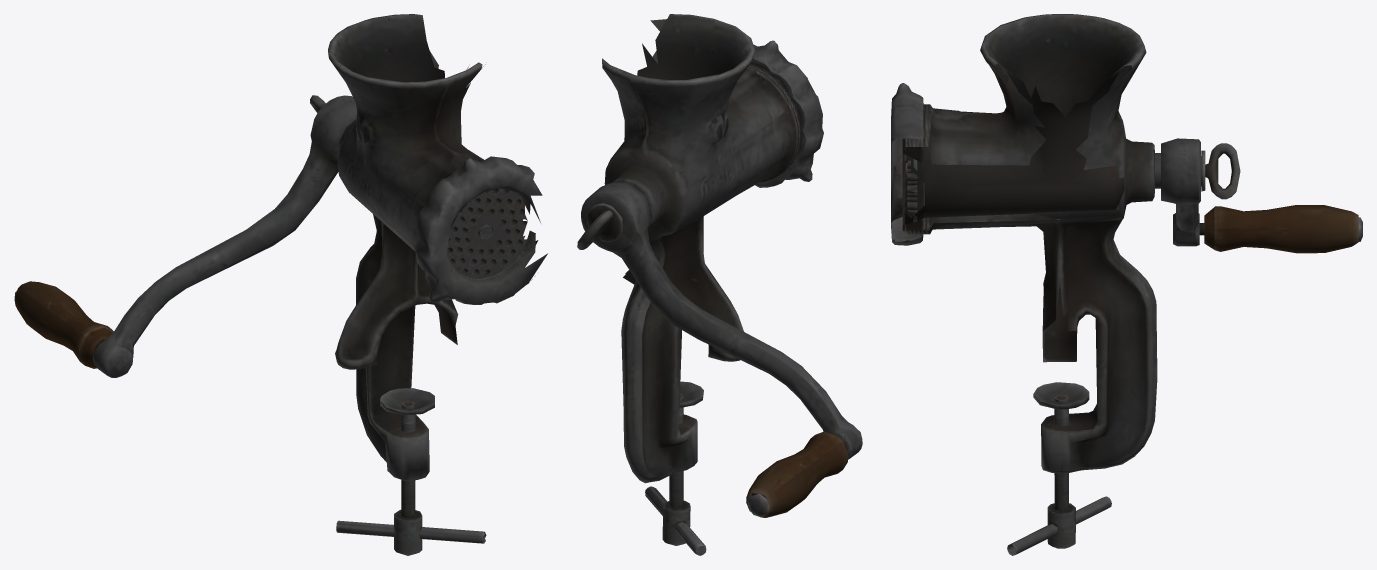
Rendered from grinder.glb.
3 views of the same model, side by side, from view 1: azimuth 30°, elevation 25°; view 2: azimuth 150°, elevation 25°; view 3: azimuth 270°, elevation 25° (orthographic).
Parts seen in each view (by area): view 1: Object_2; view 2: Object_2; view 3: Object_2.
Boxes of the visible parts, <box> form: Object_2: <box>14,14,547,555</box>; Object_2: <box>577,14,862,555</box>; Object_2: <box>891,14,1362,555</box>.
Size of the model in its own units: 17.05 by 26.7 by 22.71.
Materials: 1 (1 with a texture image).
